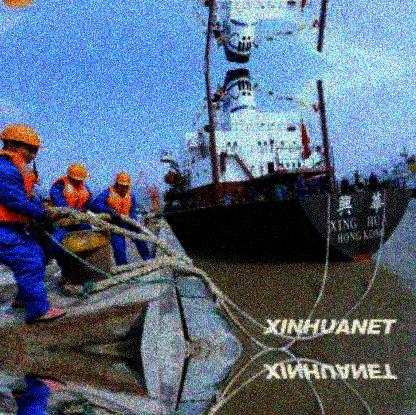helmet: (1, 125, 43, 163), (66, 162, 90, 190), (115, 172, 134, 196)
